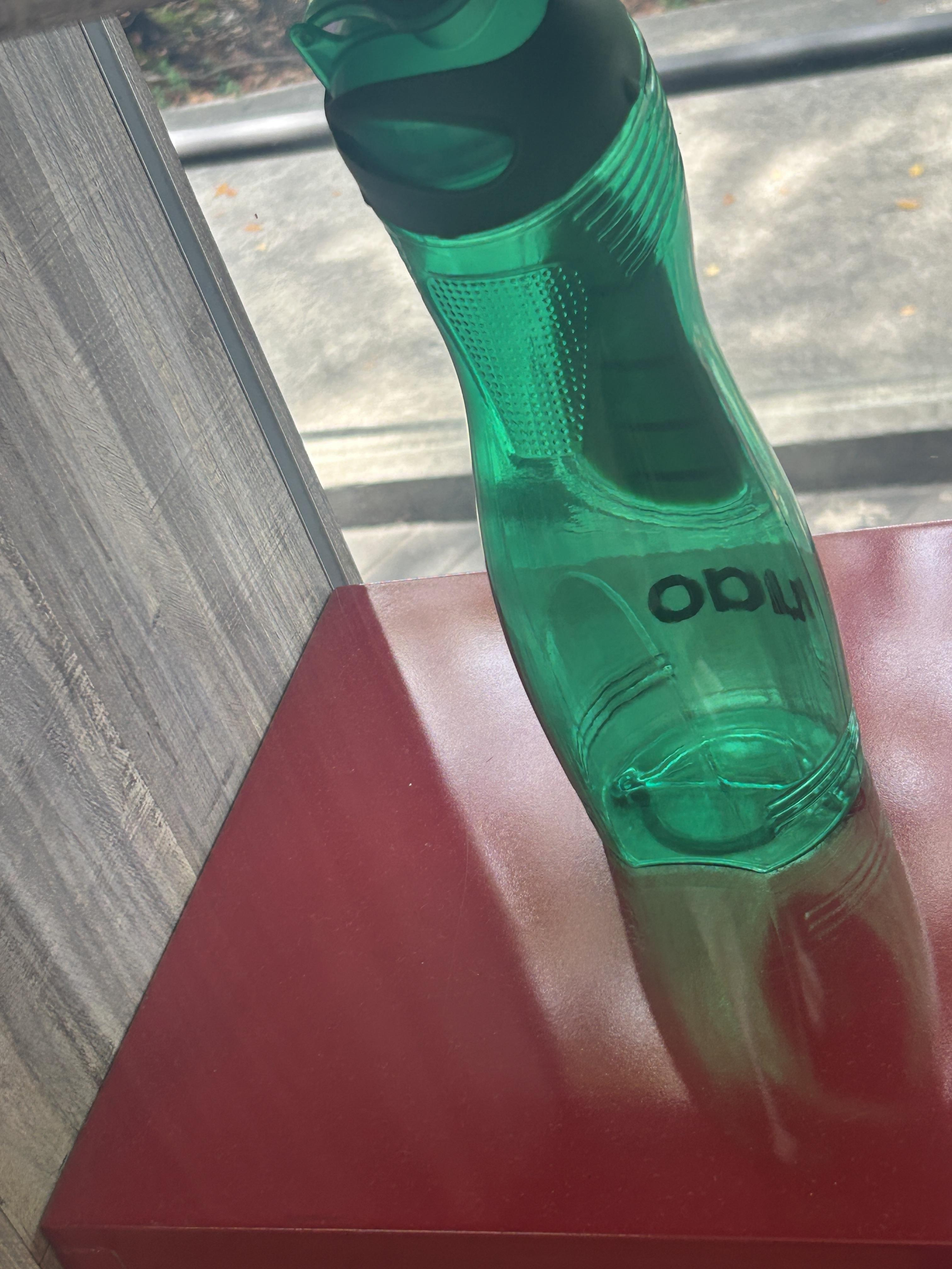termo: (292, 0, 859, 868)
